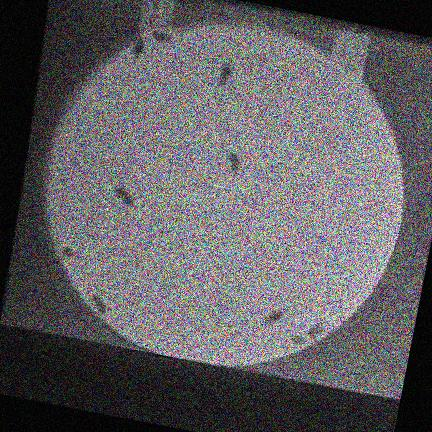fly: (218, 60, 232, 87), (262, 310, 285, 326), (115, 187, 134, 206), (228, 153, 243, 175), (90, 296, 106, 315), (130, 38, 143, 61), (151, 30, 171, 42), (307, 324, 323, 338), (61, 247, 72, 259), (292, 335, 303, 345)
